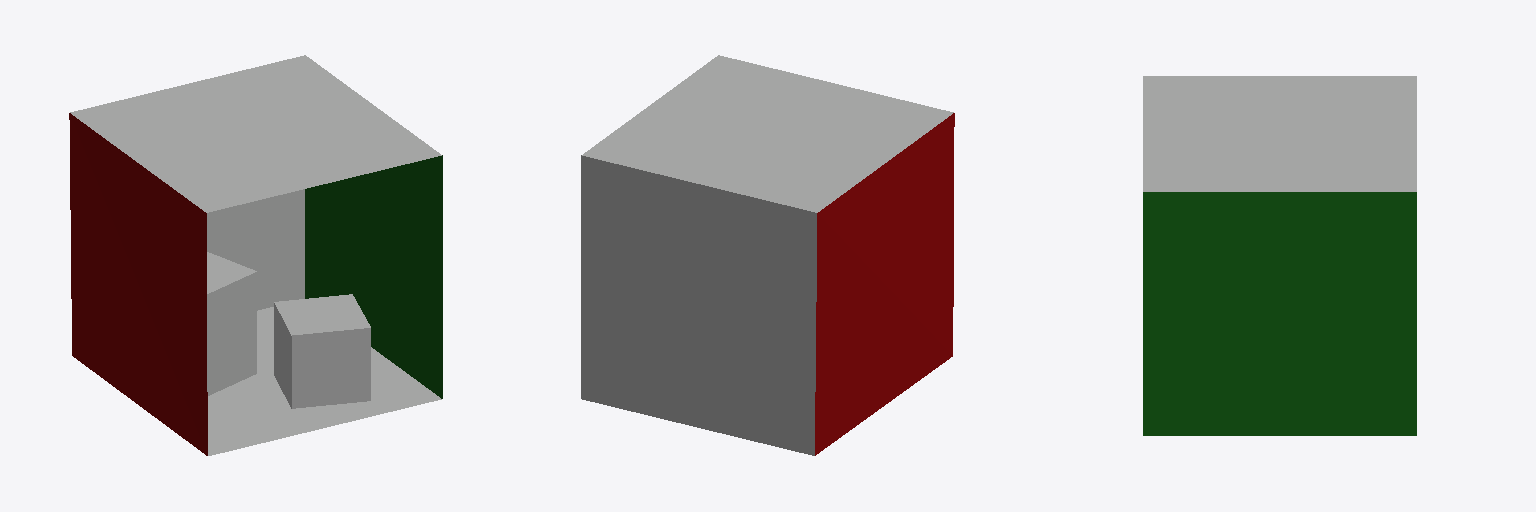
3 views of the same model, side by side, from view 1: azimuth 30°, elevation 25°; view 2: azimuth 150°, elevation 25°; view 3: azimuth 270°, elevation 25° (orthographic).
Parts seen in each view (by area): view 1: left, ceiling, right, floor, short, back, tall; view 2: back, left, ceiling; view 3: right, ceiling.
Part boxes in pixels (x1,y1,x2,y2): left: (69, 113, 207, 455); ceiling: (70, 55, 441, 212); right: (305, 155, 442, 398); floor: (208, 307, 441, 455); short: (274, 294, 370, 408); back: (207, 189, 304, 310); tall: (207, 252, 256, 395); back: (581, 155, 816, 455); left: (815, 113, 954, 455); ceiling: (582, 55, 953, 212); right: (1143, 192, 1416, 435); ceiling: (1143, 76, 1416, 191).
Size of the model in its own units: 556 by 549 by 559.